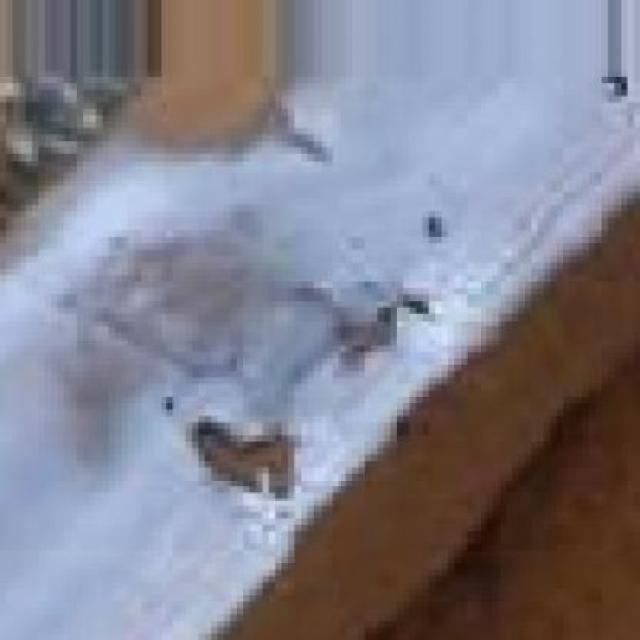defective: (0, 124, 491, 640)
